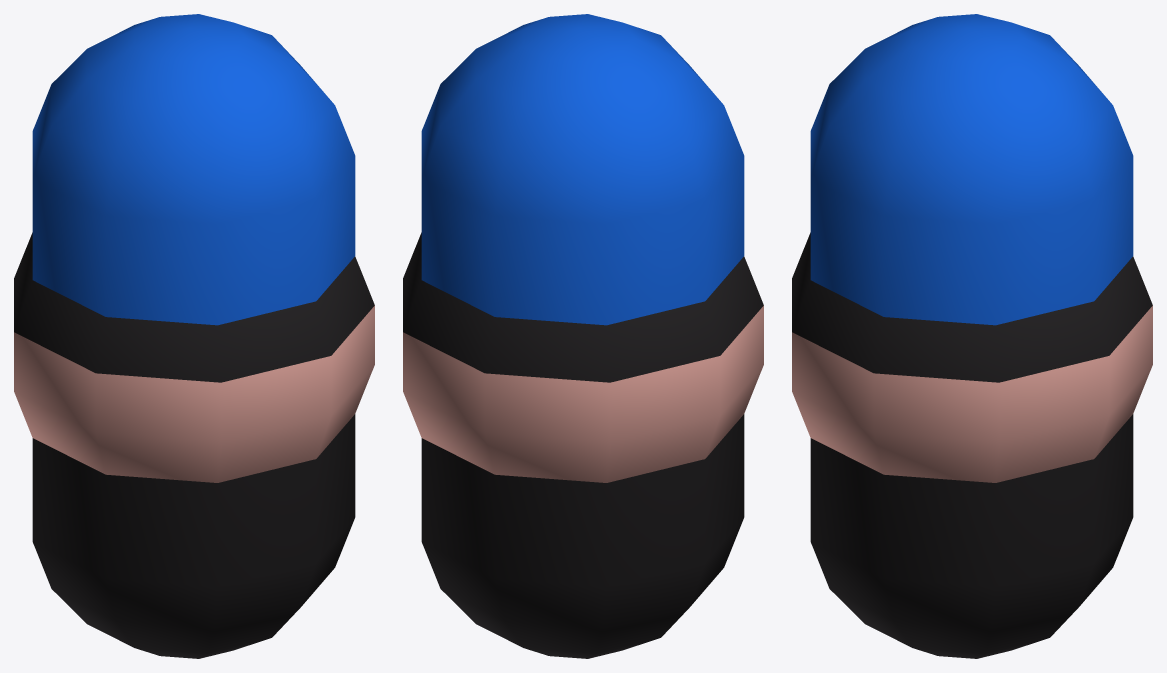
File: character2.glb
3 renders of one model, left to right at view 1: azimuth 30°, elevation 25°; view 2: azimuth 150°, elevation 25°; view 3: azimuth 270°, elevation 25°, orthographic.
Parts seen in each view (by area): view 1: body, head; view 2: body, head; view 3: body, head.
Part boxes in pixels (x1,y1,x2,y2): body: (32,14,355,658); head: (14,232,374,482); body: (421,14,744,658); head: (403,232,763,482); body: (810,14,1133,658); head: (792,232,1152,482).
Size of the model in its own units: 1.65 by 3.06 by 1.63.
